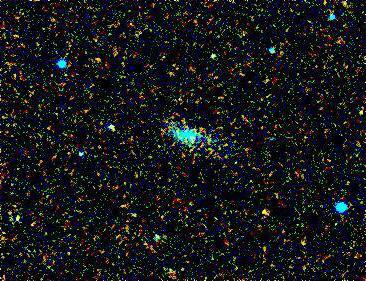star: (247, 201, 277, 231)
